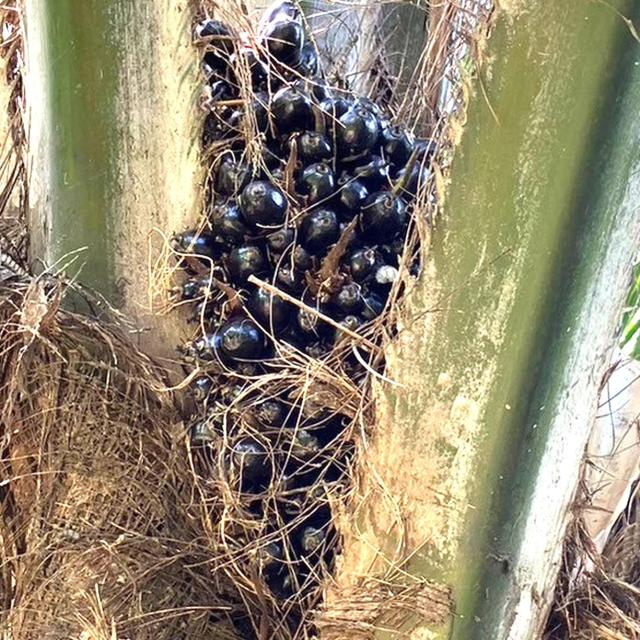unripe: (163, 6, 444, 640)
